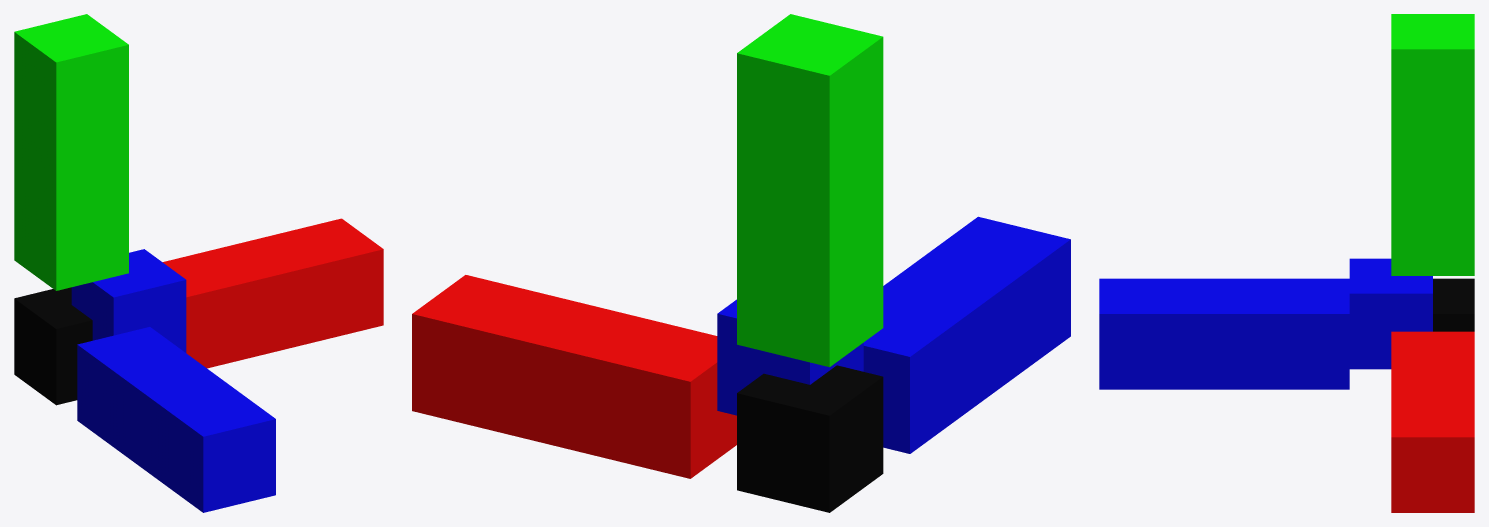
File: test_create_cube.glb
3 views of the same model, side by side, from view 1: azimuth 30°, elevation 25°; view 2: azimuth 150°, elevation 25°; view 3: azimuth 270°, elevation 25° (orthographic). The views are drawn at different scales.
Visible parts, largest first — view 1: Axes at Origin, Box; view 2: Axes at Origin, Box; view 3: Axes at Origin, Box.
Part boxes in pixels (<box>): Axes at Origin: <box>14,14,383,512</box>; Box: <box>71,249,186,352</box>; Axes at Origin: <box>412,14,1070,512</box>; Box: <box>717,299,863,415</box>; Axes at Origin: <box>1099,14,1474,512</box>; Box: <box>1349,258,1432,369</box>.
Bounding box in the file's own units: 4.5 × 4.5 × 4.5.
